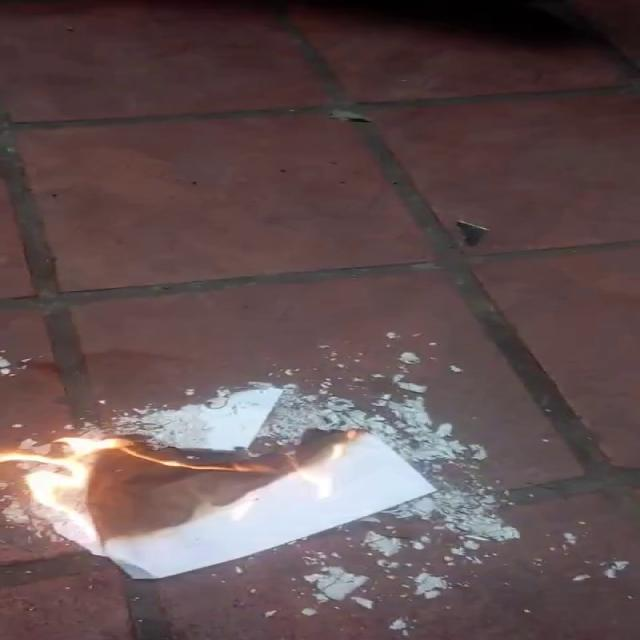Fire_Dangerous: (21, 420, 345, 534)
